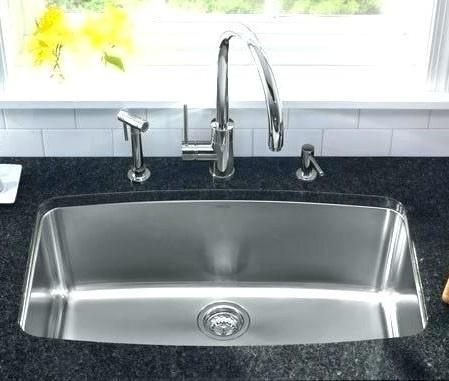Lavaplatos: (0, 33, 433, 347)
